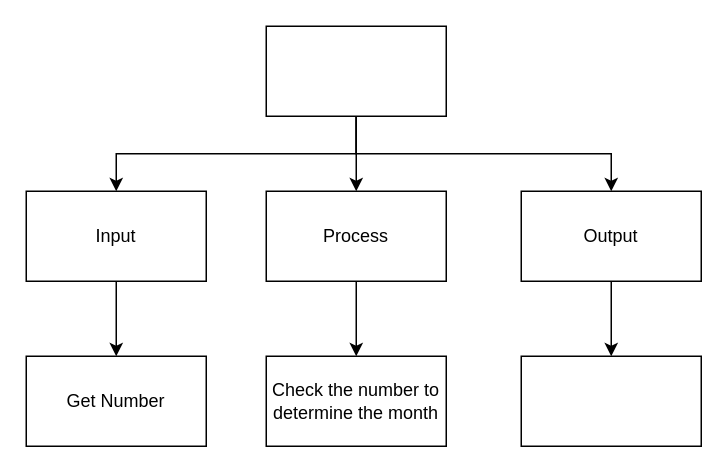
This 728x473 diagram has some shape labels left out. Here are the shapes that lost their labels. From the top down, the centre of each, then its label:
(355,70): Month Program
(610,400): Show the month
